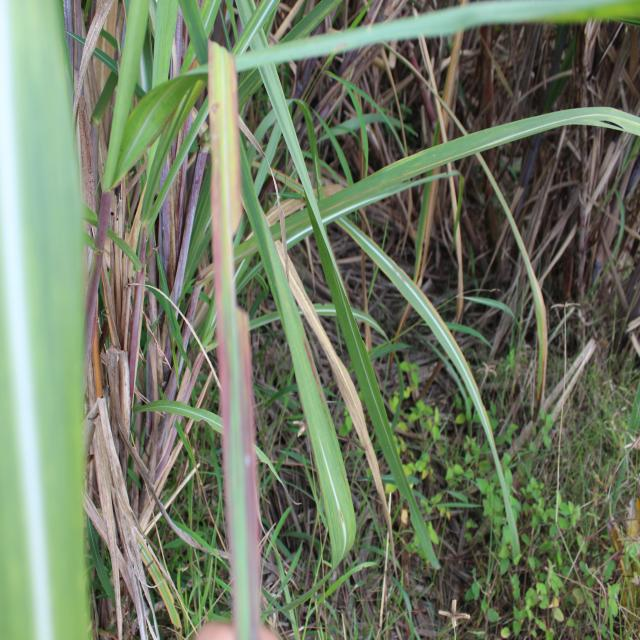Sugarcane: (0, 0, 87, 640), (266, 103, 640, 247), (204, 39, 245, 640)
